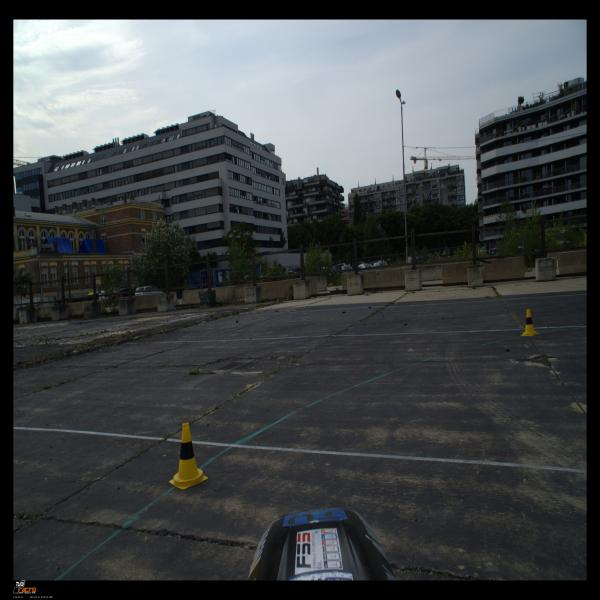yellow_cone: (169, 422, 208, 490), (520, 308, 540, 336)
